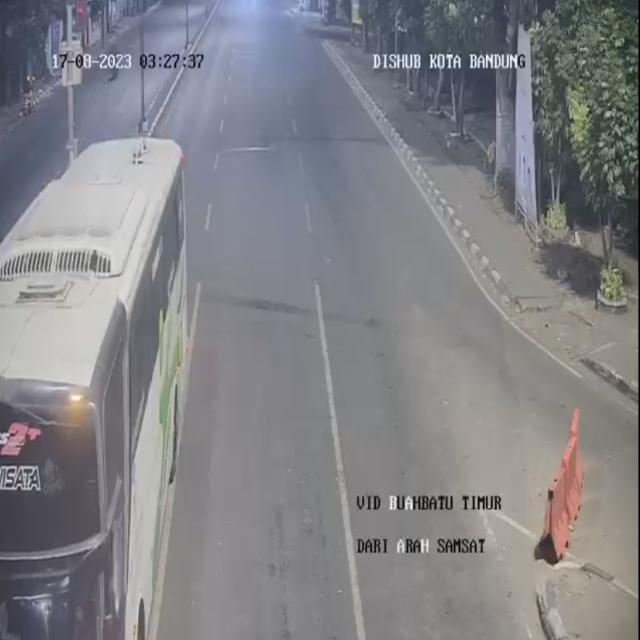bus: (0, 129, 196, 640)
